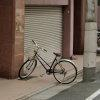bicycles: (18, 40, 77, 84)
